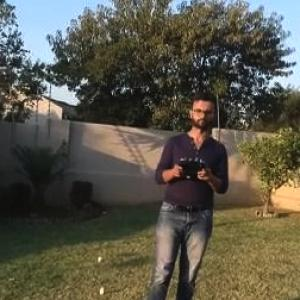follow: (140, 87, 234, 299)
